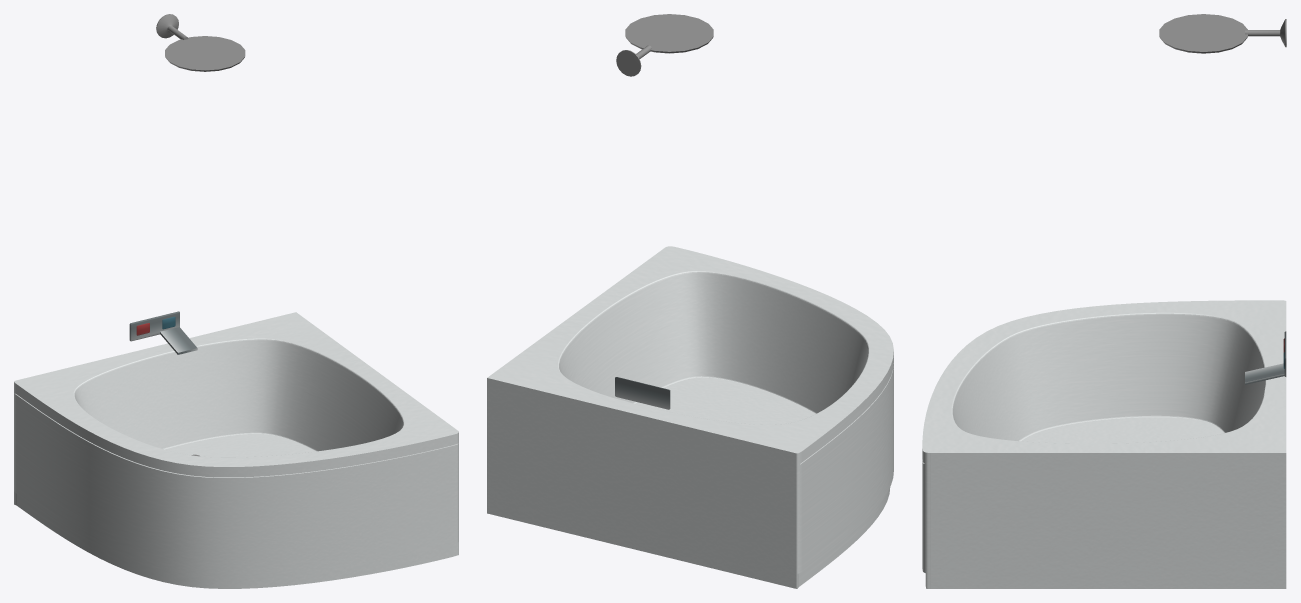
File: Bath02.FBX
The picture shows the model from 3 angles, left to right: view 1: azimuth 30°, elevation 25°; view 2: azimuth 150°, elevation 25°; view 3: azimuth 270°, elevation 25°; orthographic projection. The views are drawn at different scales.
Parts seen in each view (by area): view 1: Bath02; view 2: Bath02; view 3: Bath02.
Boxes of the visible parts, box(x1,y1,x2,y2) form: Bath02: box(14, 14, 458, 588); Bath02: box(487, 14, 893, 588); Bath02: box(922, 14, 1286, 588).
Size of the model in its own units: 77.84 by 119 by 78.48.
